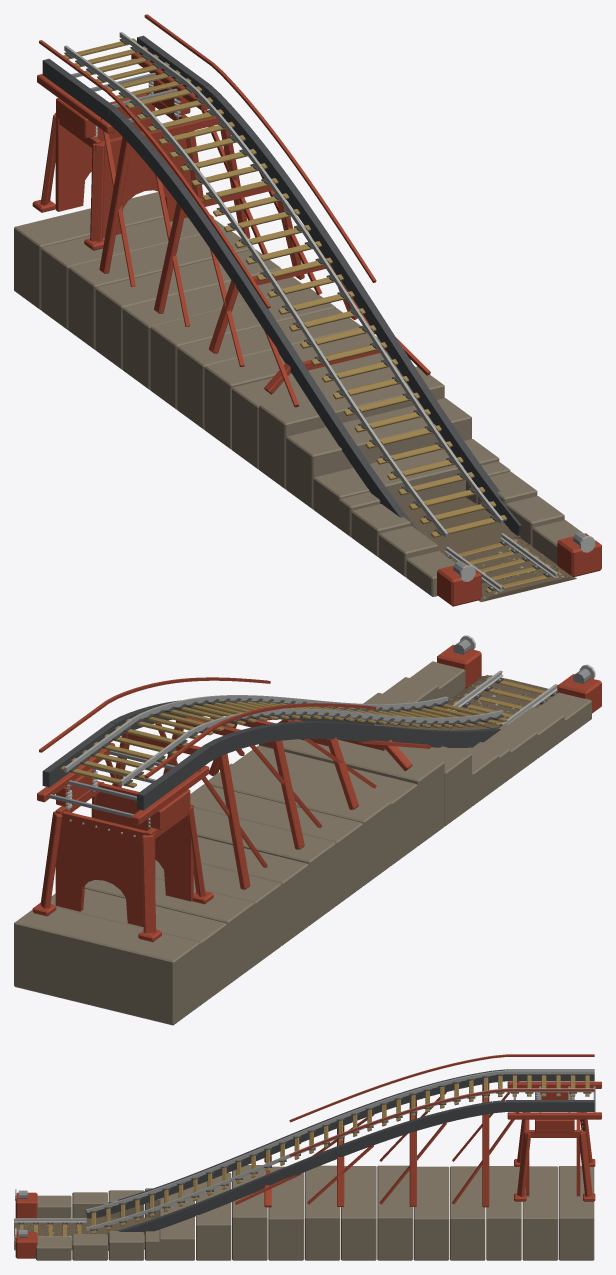
Rendered from rail-ramp.glb.
The picture shows the model from 3 angles, top to bottom: view 1: azimuth 30°, elevation 25°; view 2: azimuth 150°, elevation 25°; view 3: azimuth 270°, elevation 25°; orthographic projection. The views are drawn at different scales.
Visible parts, largest first — view 1: body; view 2: body; view 3: body.
Boxes of the visible parts, left/top/right/bottom form: body: left=14, top=14, right=601, bottom=606; body: left=14, top=635, right=601, bottom=1025; body: left=14, top=1054, right=601, bottom=1260.
Bounding box in the file's own units: 3.4 × 4.95 × 16.2.
